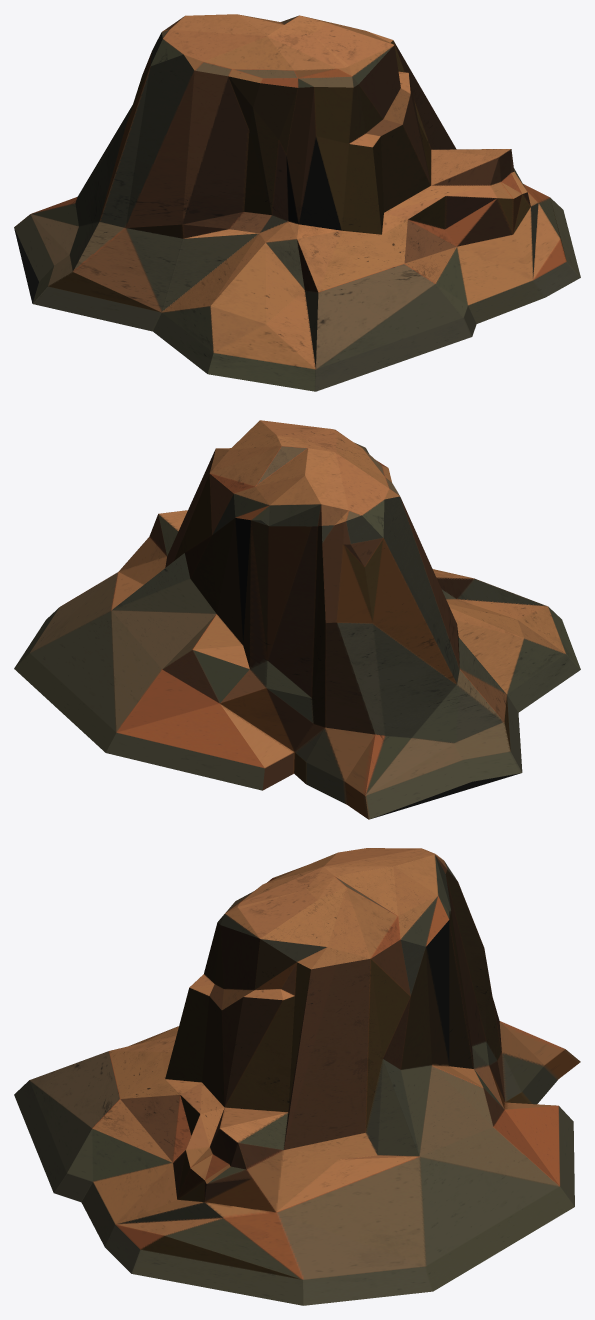
Rendered from rocks - Copy.glb.
3 views of the same model, one above another, from view 1: azimuth 30°, elevation 25°; view 2: azimuth 150°, elevation 25°; view 3: azimuth 270°, elevation 25° (orthographic). The views are drawn at different scales.
Parts seen in each view (by area): view 1: mountain_4.1; view 2: mountain_4.1; view 3: mountain_4.1.
Part boxes in pixels (x1,y1,x2,y2): mountain_4.1: (14, 14, 580, 391); mountain_4.1: (14, 420, 580, 819); mountain_4.1: (14, 848, 580, 1305).
Bounding box in the file's own units: 1.17 × 0.5417 × 0.9948.
Materials: 1 (1 with a texture image).
